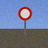sign: (18, 7, 32, 36)
